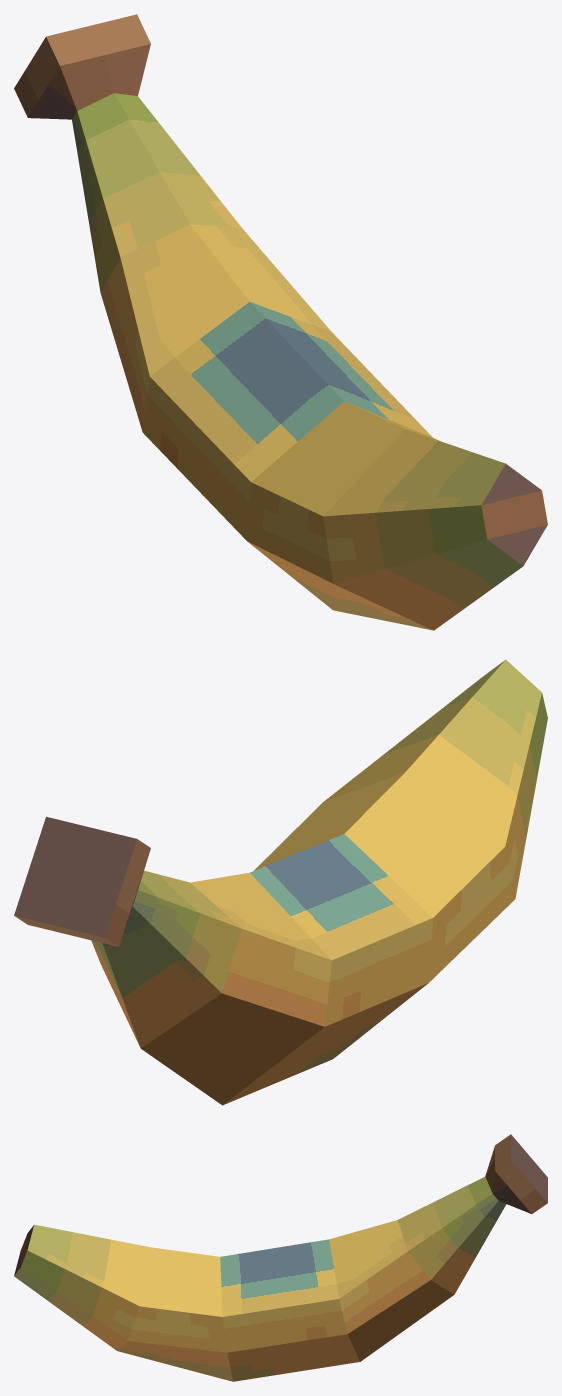
The model's file is banana_label.fbx.
The picture shows the model from 3 angles, top to bottom: view 1: azimuth 30°, elevation 25°; view 2: azimuth 150°, elevation 25°; view 3: azimuth 270°, elevation 25°; orthographic projection. The views are drawn at different scales.
Visible parts, largest first — view 1: BananaLabel; view 2: BananaLabel; view 3: BananaLabel.
Boxes of the visible parts, bbox=[...] form: BananaLabel: bbox=[14, 14, 547, 630]; BananaLabel: bbox=[14, 659, 547, 1105]; BananaLabel: bbox=[14, 1134, 547, 1381].
Size of the model in its own units: 18.75 by 40.16 by 82.74.
1 material, 1 textured.
